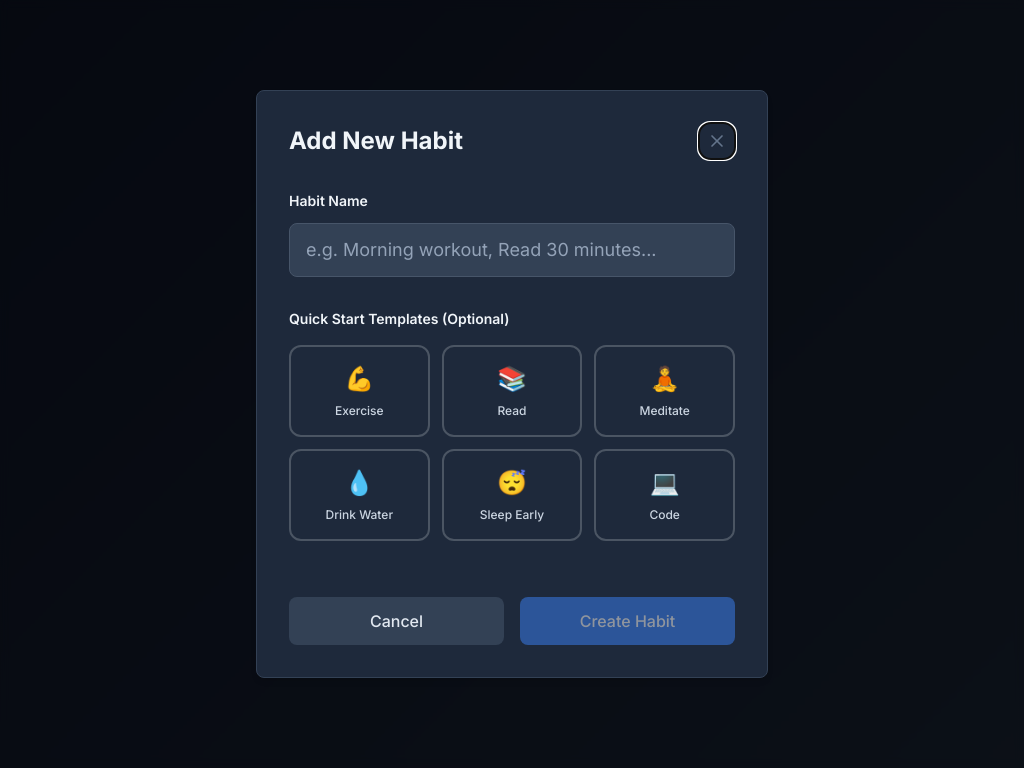
SimpleHabitModal › populates name when a template is clicked
// Click the "Exercise" template
Click the text "Exercise": {"x": 359, "y": 410} [335,403,384,418]
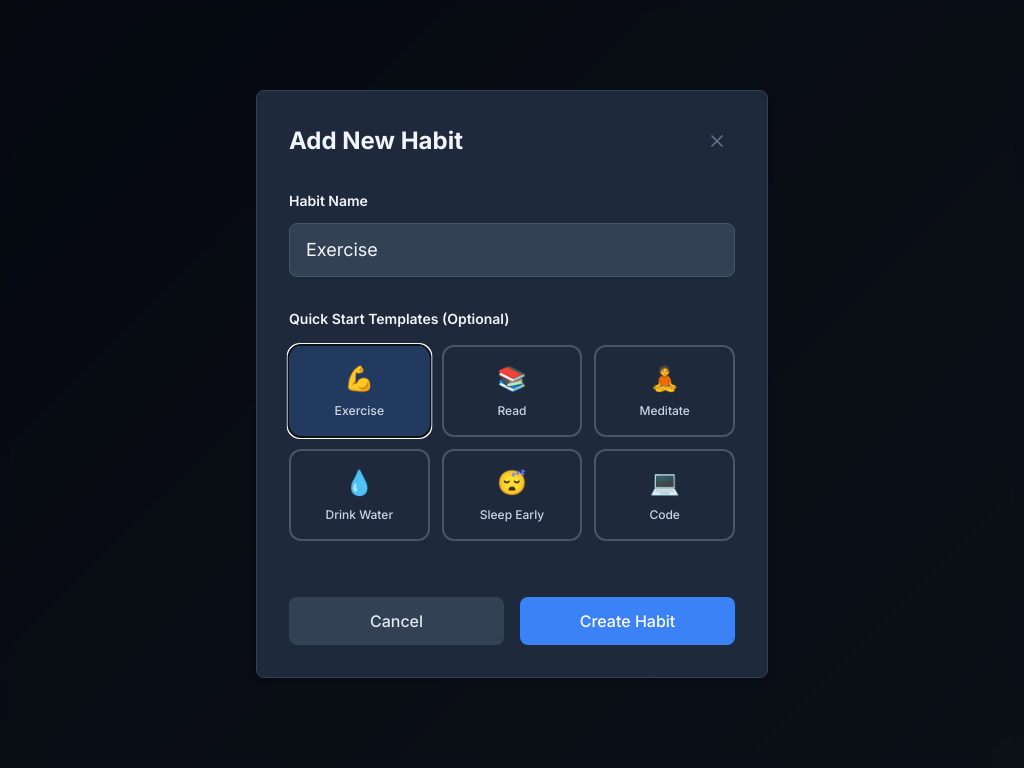
Expected: the field with placeholder "e.g. Morning workout, Read 30 minutes..." holds "Exercise", [289,223,735,277]
